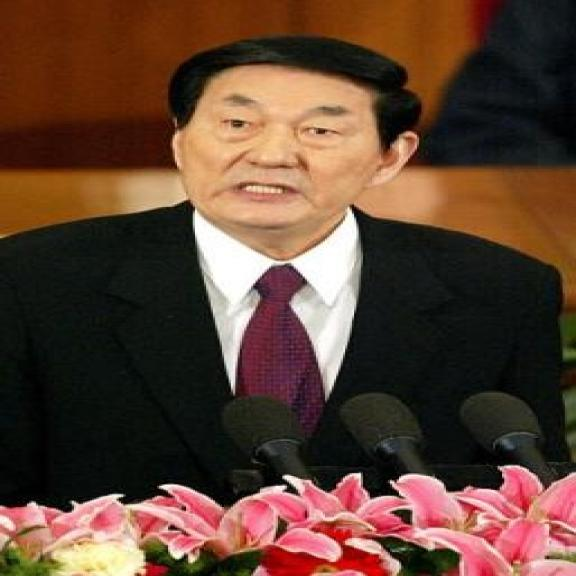face: (161, 72, 426, 237)
